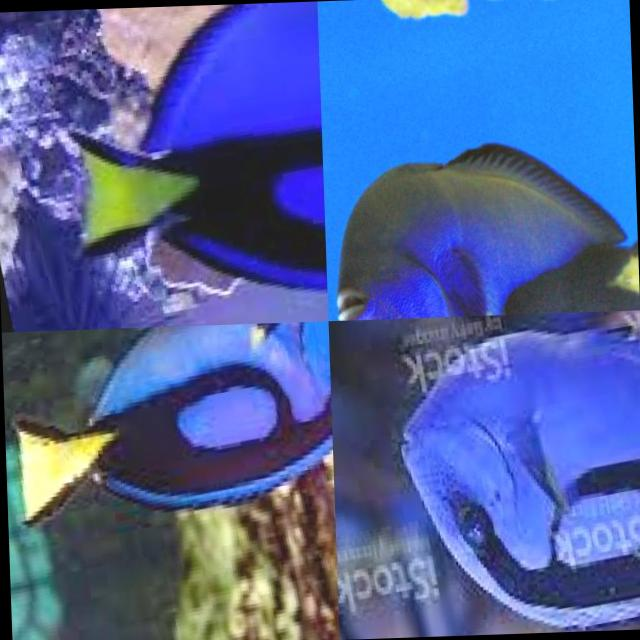BlueTang: (74, 0, 327, 328), (394, 327, 640, 636), (10, 320, 334, 534)
